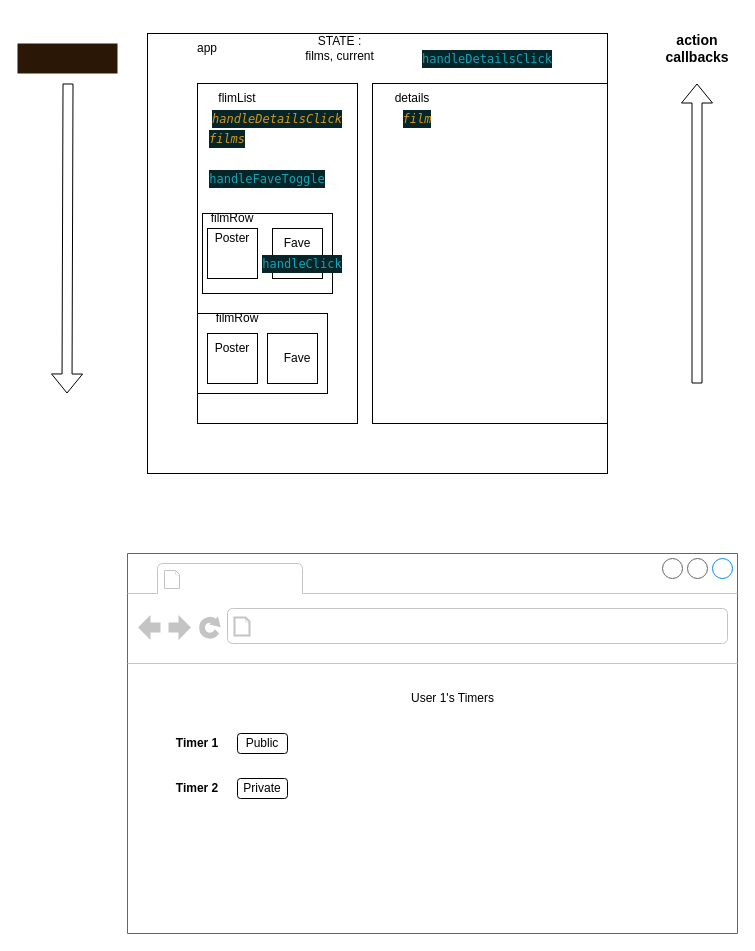
This 755x951 diagram has some shape labels left out. Each missing label, with the box of its shape:
https://intrvl.com/users/1/timers: (256, 612, 508, 640)
Intrvl: (186, 564, 278, 592)
unidirectional data flow: (17, 43, 117, 73)
